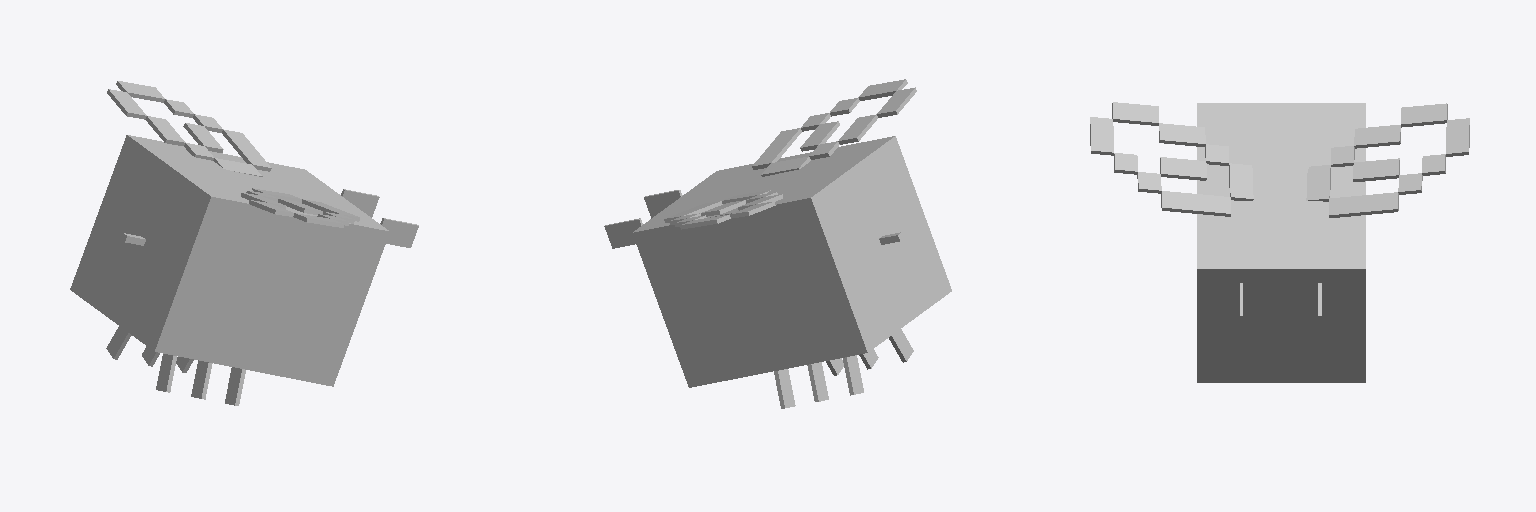
The model's file is Bee_ (210).obj.
The picture shows the model from 3 angles: view 1: azimuth 30°, elevation 25°; view 2: azimuth 150°, elevation 25°; view 3: azimuth 270°, elevation 25°; orthographic projection.
Visible parts, largest first — view 1: b_Bee_MAT_0, r_Bee_MAT_0, l_Bee_MAT_0; view 2: b_Bee_MAT_0, l_Bee_MAT_0, r_Bee_MAT_0; view 3: b_Bee_MAT_0, l_Bee_MAT_0, r_Bee_MAT_0.
Part boxes in pixels (left/top/right/bottom): b_Bee_MAT_0: left=70, top=135, right=418, bottom=405; r_Bee_MAT_0: left=107, top=81, right=271, bottom=176; l_Bee_MAT_0: left=241, top=188, right=359, bottom=227; b_Bee_MAT_0: left=604, top=136, right=951, bottom=408; l_Bee_MAT_0: left=752, top=79, right=916, bottom=176; r_Bee_MAT_0: left=664, top=190, right=782, bottom=229; b_Bee_MAT_0: left=1197, top=103, right=1365, bottom=382; l_Bee_MAT_0: left=1090, top=102, right=1253, bottom=216; r_Bee_MAT_0: left=1306, top=103, right=1469, bottom=217.
Size of the model in its own units: 0.3062 by 0.2516 by 0.3535.